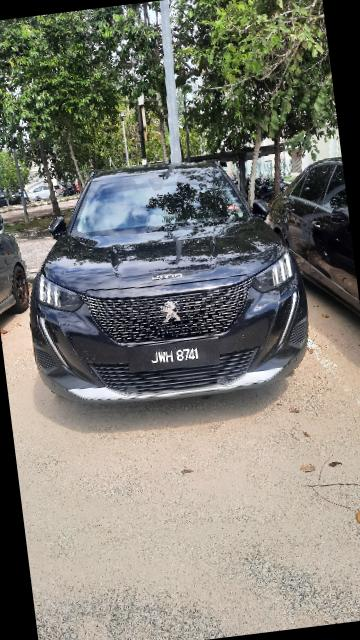License_Plate: (125, 336, 226, 378)
car: (10, 138, 320, 419)
